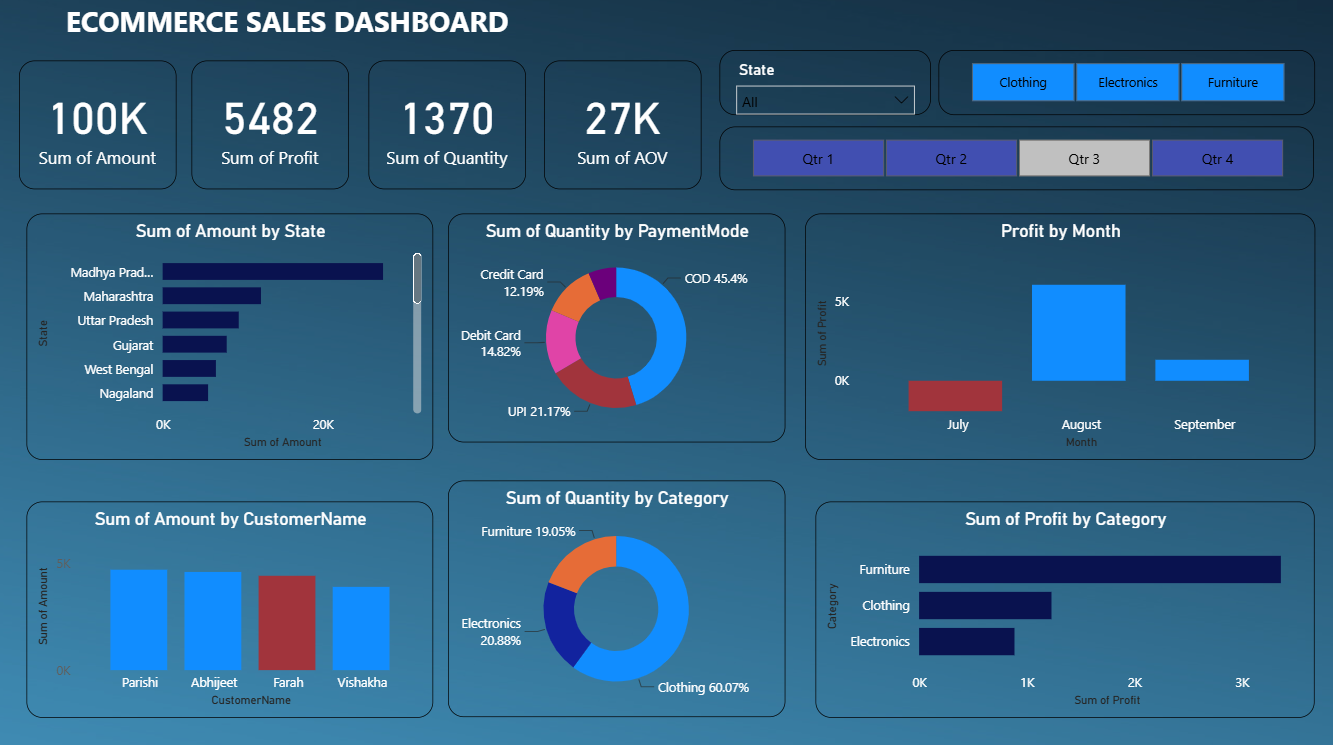

Layout of this report page (visuals, bound fields, positions):
{"tool":"powerbi","page":{"name":"Page 1","canvas":[1280,720],"ordinal":0},"visuals":[{"type":"textbox","box":[9.4,0,536.7,62.4],"z":0},{"type":"lineStackedColumnComboChart","title":"Profit by Month","fields":{"Category":["Orders.Order Date.Variation.Date Hierarchy.Month"],"Y":["Sum(Details.Profit)"]},"box":[770.7,207.4,486.1,234.7],"z":1000},{"type":"barChart","fields":{"Category":["Details.Category"],"Y":["Sum(Details.Profit)"]},"box":[781.3,481.5,475.5,205.9],"z":2000},{"type":"donutChart","fields":{"Category":["Details.Category"],"Y":["Sum(Details.Quantity)"]},"box":[431.5,461.8,321,225.6],"z":3000},{"type":"donutChart","fields":{"Y":["Sum(Details.Quantity)"],"Category":["Details.PaymentMode"]},"box":[431.5,207.4,321,218],"z":4000},{"type":"card","fields":{"Values":["Sum(Details.Amount)"]},"box":[22.7,62.1,149.9,122.7],"z":5000},{"type":"card","fields":{"Values":["Sum(Details.Quantity)"]},"box":[355.8,62.1,149.9,122.7],"z":6000},{"type":"card","fields":{"Values":["Sum(Details.Profit)"]},"box":[187.8,62.1,149.9,122.7],"z":7000},{"type":"card","fields":{"Values":["Sum(Details.AOV)"]},"box":[522.4,62.1,149.9,122.7],"z":8000},{"type":"barChart","fields":{"Category":["Orders.State"],"Y":["Sum(Details.Amount)"]},"box":[30.3,207.4,387.6,234.7],"z":9000},{"type":"columnChart","fields":{"Category":["Orders.CustomerName"],"Y":["Sum(Details.Amount)"]},"box":[30.3,481.5,387.6,205.9],"z":10000},{"type":"slicer","fields":{"Values":["Orders.Order Date.Variation.Date Hierarchy.Quarter"]},"box":[690.5,124.2,566.3,60.6],"z":11000},{"type":"slicer","fields":{"Values":["Orders.State"]},"box":[690.5,51.5,201.4,62.1],"z":12000},{"type":"slicer","fields":{"Values":["Details.Category"]},"box":[897.9,51.5,358.9,62.1],"z":13000}]}

Visuals, with their boxes in screenshot pixels (x1, y1, x2, y2), scaled from the page's 1280x720 canvas onto the 1333x745 screenshot:
textbox: crop(10, 0, 569, 65)
"Profit by Month" lineStackedColumnComboChart: crop(803, 215, 1309, 457)
barChart - Details.Category x Sum(Details.Profit): crop(814, 498, 1309, 711)
donutChart - Details.Category x Sum(Details.Quantity): crop(449, 478, 784, 711)
donutChart - Sum(Details.Quantity) x Details.PaymentMode: crop(449, 215, 784, 440)
card - Sum(Details.Amount): crop(24, 64, 180, 191)
card - Sum(Details.Quantity): crop(371, 64, 527, 191)
card - Sum(Details.Profit): crop(196, 64, 352, 191)
card - Sum(Details.AOV): crop(544, 64, 700, 191)
barChart - Orders.State x Sum(Details.Amount): crop(32, 215, 435, 457)
columnChart - Orders.CustomerName x Sum(Details.Amount): crop(32, 498, 435, 711)
slicer - Orders.Order Date.Variation.Date Hierarchy.Quarter: crop(719, 129, 1309, 191)
slicer - Orders.State: crop(719, 53, 929, 118)
slicer - Details.Category: crop(935, 53, 1309, 118)
